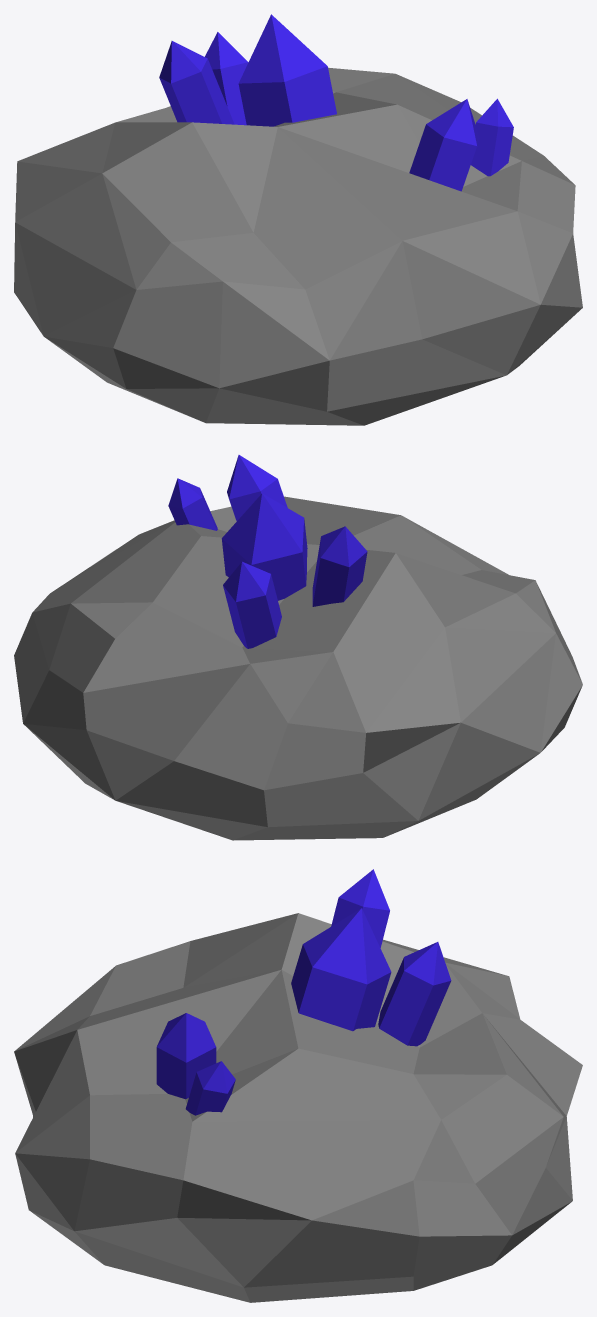
Rendered from Caillasse1.fbx.
The picture shows the model from 3 angles, top to bottom: view 1: azimuth 30°, elevation 25°; view 2: azimuth 150°, elevation 25°; view 3: azimuth 270°, elevation 25°; orthographic projection. The views are drawn at different scales.
Parts seen in each view (by area): view 1: Cube.001, Cylinder.011, Cylinder.015, Cylinder.010, Cylinder.012, Cylinder.009; view 2: Cube.001, Cylinder.011, Cylinder.009, Cylinder.010, Cylinder.015, Cylinder.012; view 3: Cube.001, Cylinder.011, Cylinder.009, Cylinder.015, Cylinder.010, Cylinder.012.
Part boxes in pixels (box(x1,y1,x2,y2)): Cube.001: box(14, 67, 582, 425); Cylinder.011: box(238, 14, 336, 126); Cylinder.015: box(409, 99, 479, 191); Cylinder.010: box(159, 41, 234, 124); Cylinder.012: box(471, 98, 513, 176); Cylinder.009: box(205, 32, 248, 125); Cube.001: box(14, 496, 582, 840); Cylinder.011: box(221, 493, 307, 600); Cylinder.009: box(223, 561, 281, 648); Cylinder.010: box(312, 526, 367, 606); Cylinder.015: box(227, 455, 287, 521); Cylinder.012: box(168, 478, 217, 530); Cube.001: box(14, 913, 582, 1302); Cylinder.011: box(291, 908, 391, 1031); Cylinder.009: box(378, 942, 451, 1046); Cylinder.015: box(156, 1013, 216, 1099); Cylinder.010: box(331, 869, 389, 947); Cylinder.012: box(185, 1061, 235, 1115).
Size of the model in its own units: 2142 by 1338 by 2027.
